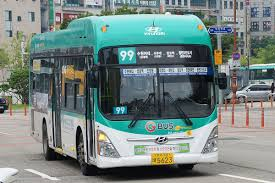bnum: (119, 49, 135, 61)
